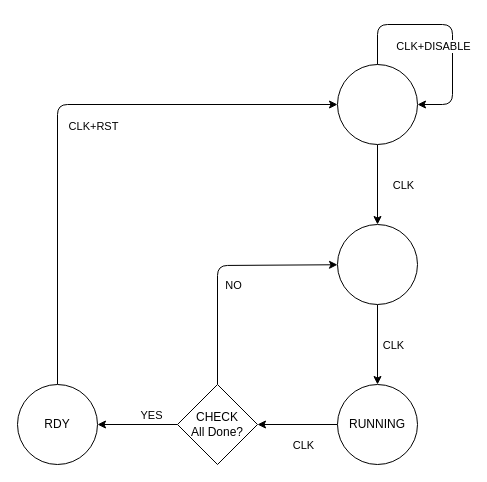
The diagram is 487 pixels wide and 482 high, and some of its shapes have lost their labels. Each missing label, with the centre of its shape:
IDLE: the point at 377,104
LOAD: the point at 377,264
